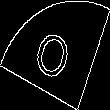O_SW: (31, 22, 79, 88)
